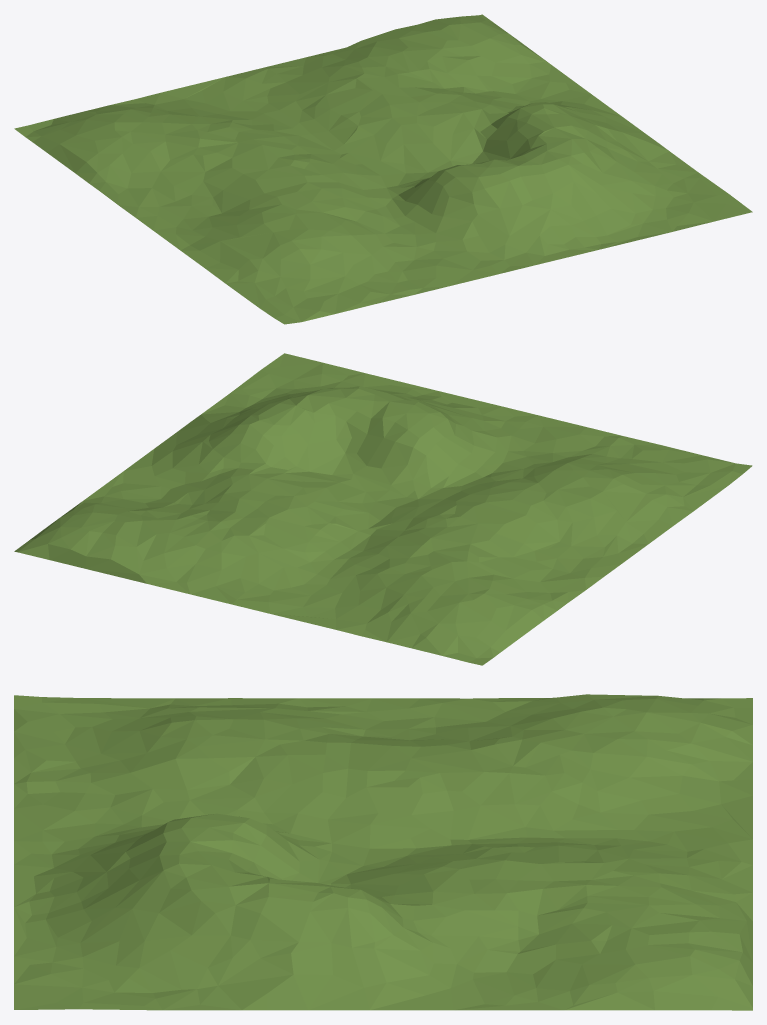
The model's file is Terrain_2.fbx.
3 views of the same model, one above another, from view 1: azimuth 30°, elevation 25°; view 2: azimuth 150°, elevation 25°; view 3: azimuth 270°, elevation 25° (orthographic). The views are drawn at different scales.
Parts seen in each view (by area): view 1: Terrain_2; view 2: Terrain_2; view 3: Terrain_2.
Part boxes in pixels (x1,y1,x2,y2): Terrain_2: (14,14,752,324); Terrain_2: (14,353,752,665); Terrain_2: (14,694,752,1010).
Size of the model in its own units: 2001 by 176 by 2000.
